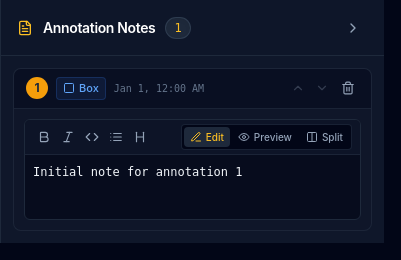
Test: NotesSidebar Component Test Suite › Suite 2: Collapsible Sidebar Interactions › T2.2: Clicking collapse button toggles sidebar closed
The image size is (401, 260).
Click the button with test id "sidebar-collapse-btn": x=353, y=28 [338,12,368,42]
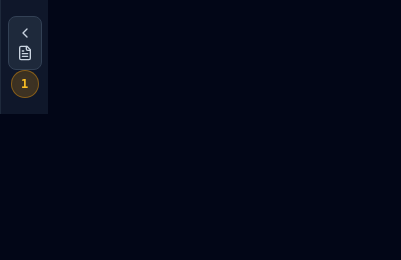
Check: the element with test id "notes-sidebar-collapsed" is shown, box [0,0,48,114]
